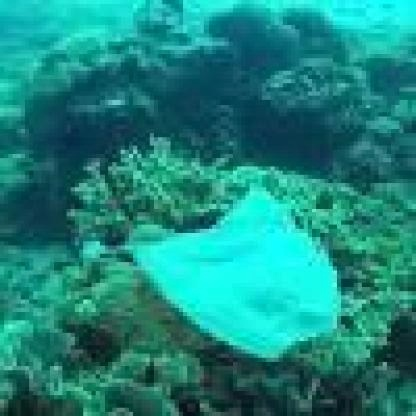pbag: (83, 183, 341, 358)
